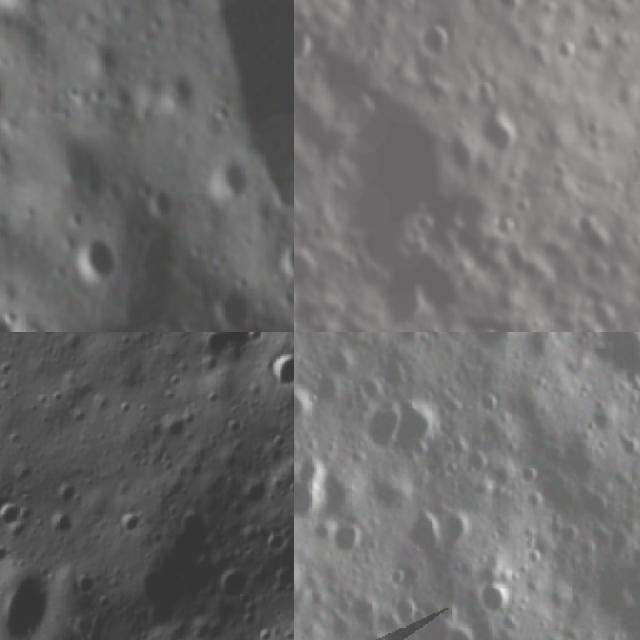crater: (330, 90, 478, 247), (438, 192, 496, 264), (375, 271, 430, 332), (71, 231, 125, 287), (418, 264, 472, 320), (572, 205, 616, 265), (354, 399, 399, 457), (206, 149, 253, 204), (150, 67, 203, 114), (205, 280, 251, 332), (402, 506, 442, 557), (411, 18, 457, 62), (479, 113, 521, 158), (208, 567, 254, 608), (86, 31, 122, 82), (115, 497, 152, 546), (476, 581, 520, 621), (436, 508, 475, 548), (258, 352, 294, 395), (294, 472, 322, 527), (588, 295, 623, 332), (329, 520, 364, 557), (294, 252, 323, 292), (294, 25, 319, 71), (322, 350, 358, 381), (551, 37, 583, 68), (294, 387, 317, 429), (473, 390, 506, 419), (0, 494, 25, 531), (276, 233, 294, 282), (0, 57, 16, 111), (486, 0, 524, 20), (0, 302, 25, 332)
